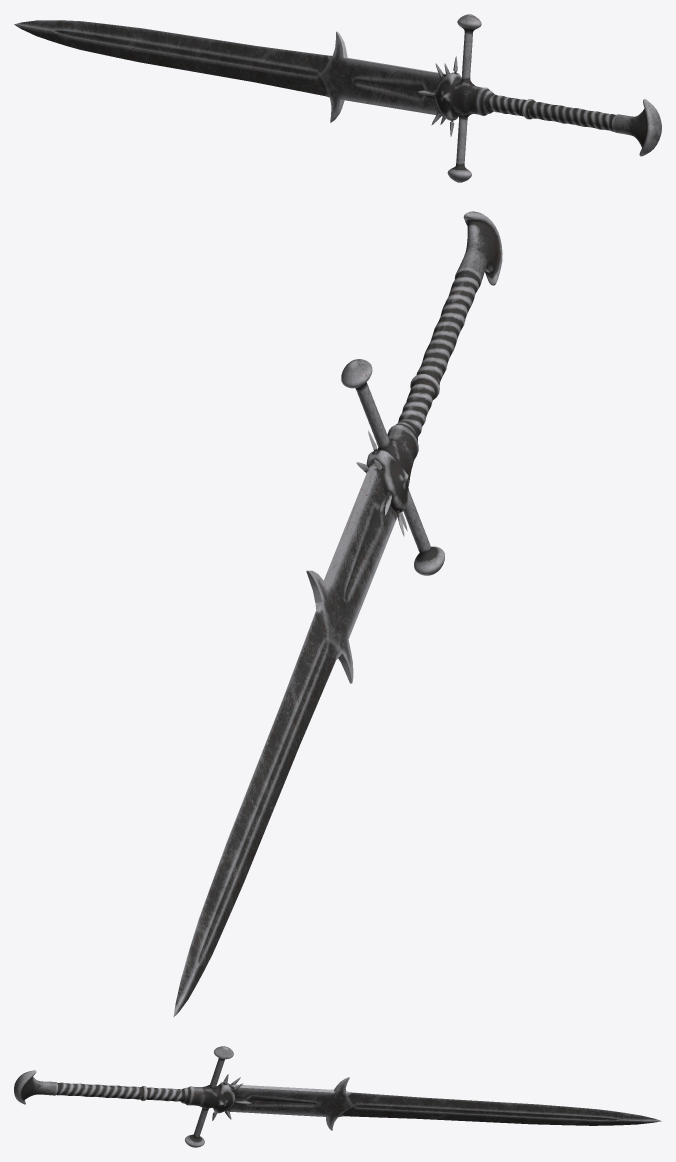
File: sword_of_the_cursed_knight.glb
The picture shows the model from 3 angles, top to bottom: view 1: azimuth 30°, elevation 25°; view 2: azimuth 150°, elevation 25°; view 3: azimuth 270°, elevation 25°; orthographic projection. The views are drawn at different scales.
Parts seen in each view (by area): view 1: Plane.002, Cylinder.002; view 2: Plane.002, Cylinder.002; view 3: Plane.002, Cylinder.002.
Part boxes in pixels (x1=…): Plane.002: x1=14, y1=20, x2=447, y2=122; Cylinder.002: x1=435, y1=14, x2=661, y2=182; Plane.002: x1=173, y1=461, x2=397, y2=1017; Cylinder.002: x1=341, y1=211, x2=502, y2=575; Plane.002: x1=225, y1=1077, x2=661, y2=1130; Cylinder.002: x1=14, y1=1046, x2=235, y2=1147.
Size of the model in its own units: 0.8131 by 0.6212 by 2.65.
Materials: 1 (1 with a texture image).
